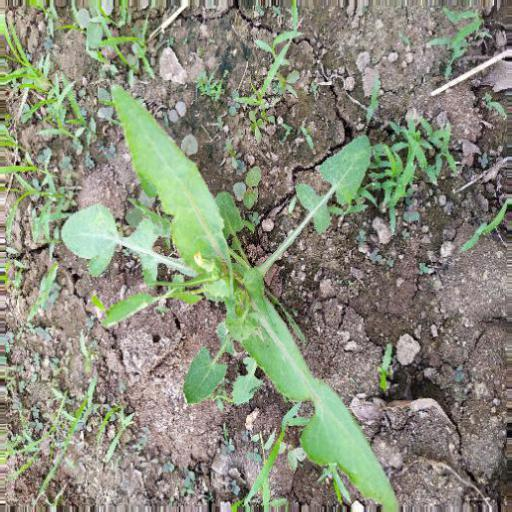weed: (45, 68, 436, 512)
